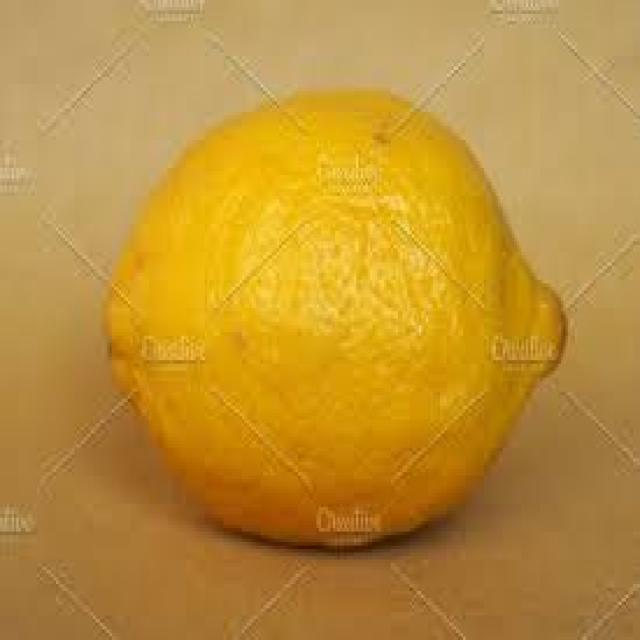Lemon: (104, 90, 570, 552)
